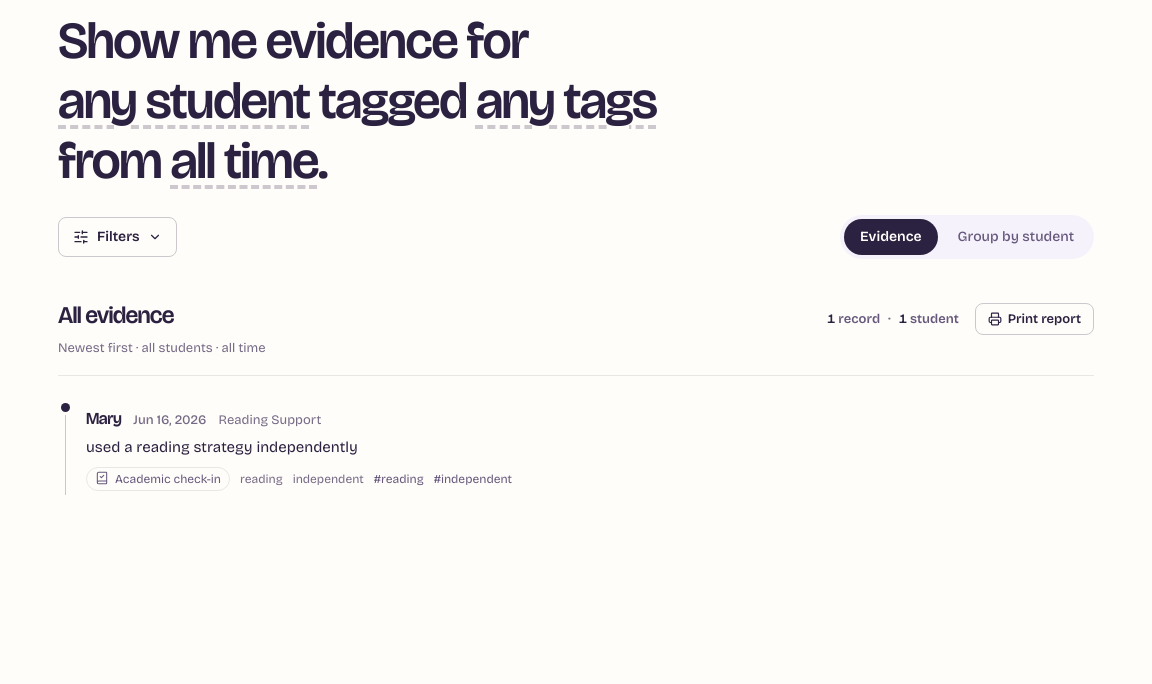
ExploreEvidencePage › identifies incomplete date questions and prevents submission
Click the button "Filters" at (117, 237), box [58,217,177,257]
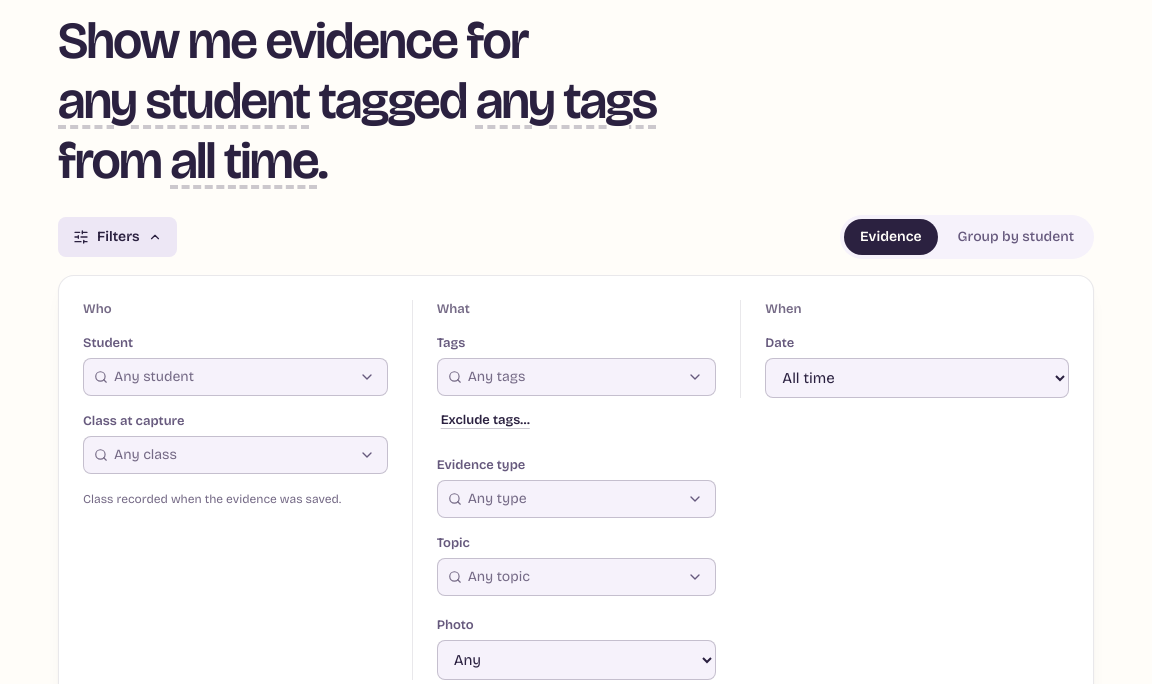
Select "Custom date range" in the dropdown labelled "Date" at (917, 378), box [765,358,1069,398]
(page scrolled)
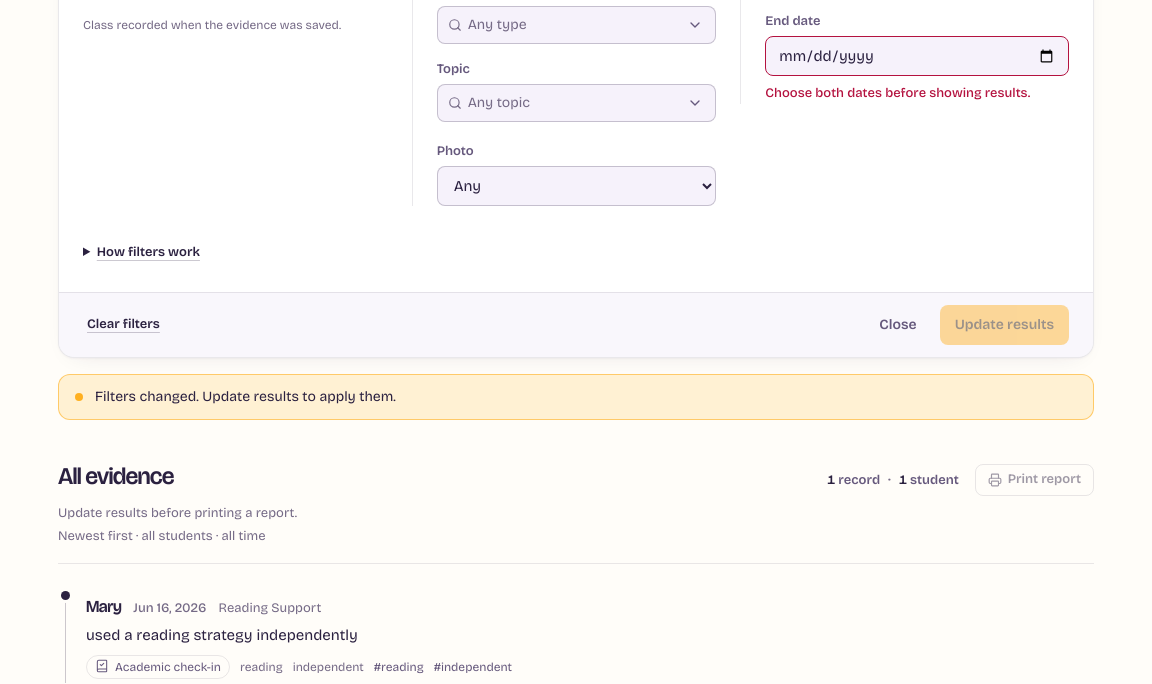
Now the text "Choose both dates before showing results." is shown, box [765,84,1069,104]
Now the button "Update results" is disabled, box [940,304,1069,344]
